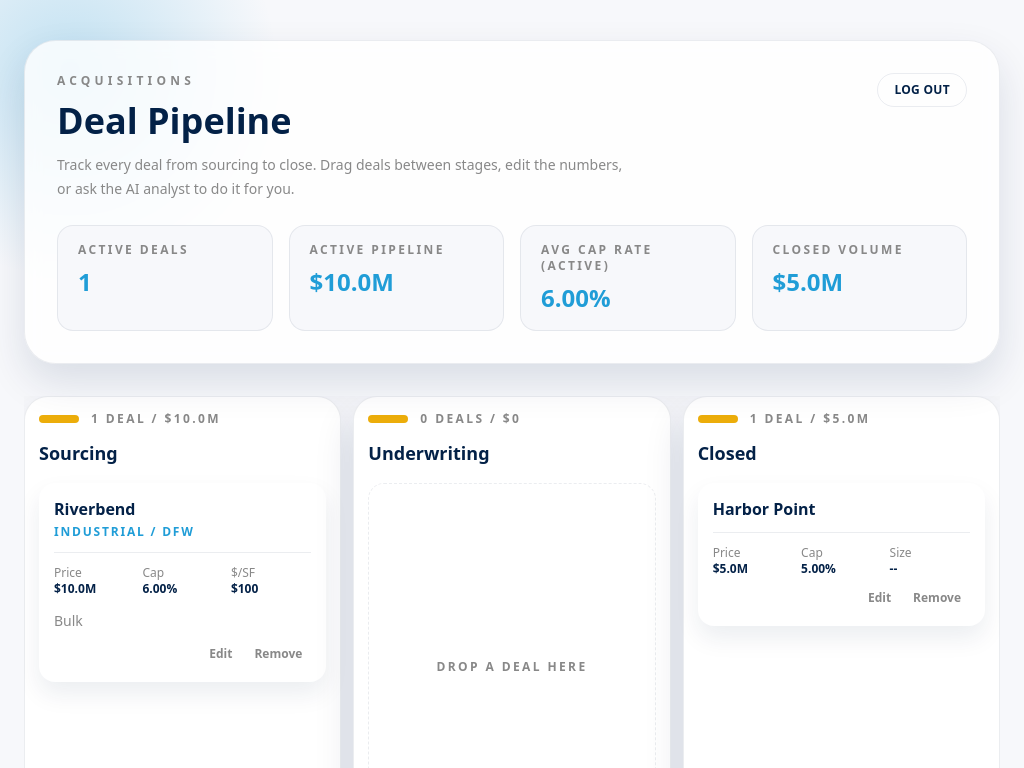
Scenario: KanbanBoard › removes a deal
This screenshot has width=1024, height=768.
Expected: the heading "Riverbend" is shown, [54,498,136,520]
Click the button with aria-label "Delete Riverbend": (278, 654) [245,641,311,667]
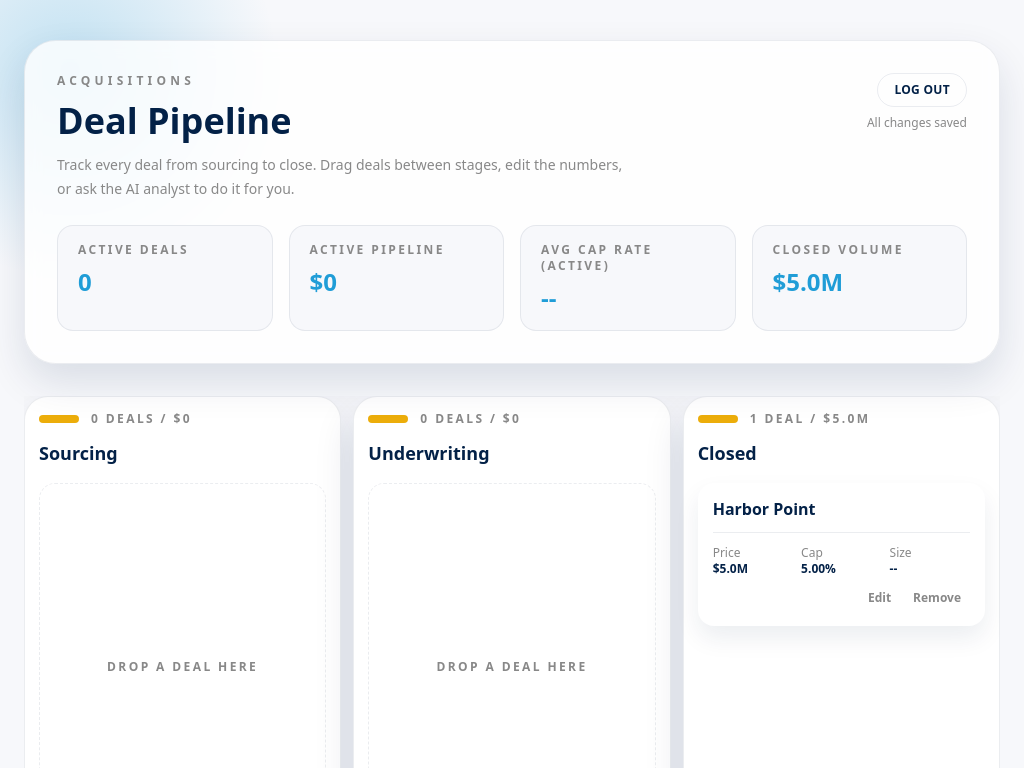
Now the button "Riverbend" is gone
